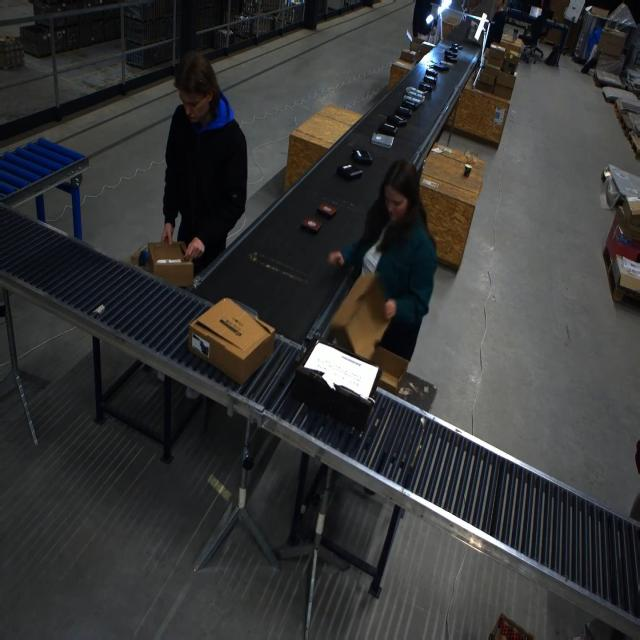box: (290, 336, 376, 427), (189, 297, 275, 385), (329, 273, 393, 362), (145, 241, 194, 287)
product: (337, 164, 363, 181), (370, 133, 394, 149), (351, 149, 372, 166), (300, 218, 322, 233), (317, 202, 336, 218), (377, 122, 396, 137), (402, 98, 420, 111), (388, 114, 406, 126), (405, 86, 424, 97), (422, 70, 437, 83), (430, 61, 449, 71), (397, 106, 412, 117), (418, 83, 431, 93), (444, 55, 458, 64), (449, 43, 461, 52)
